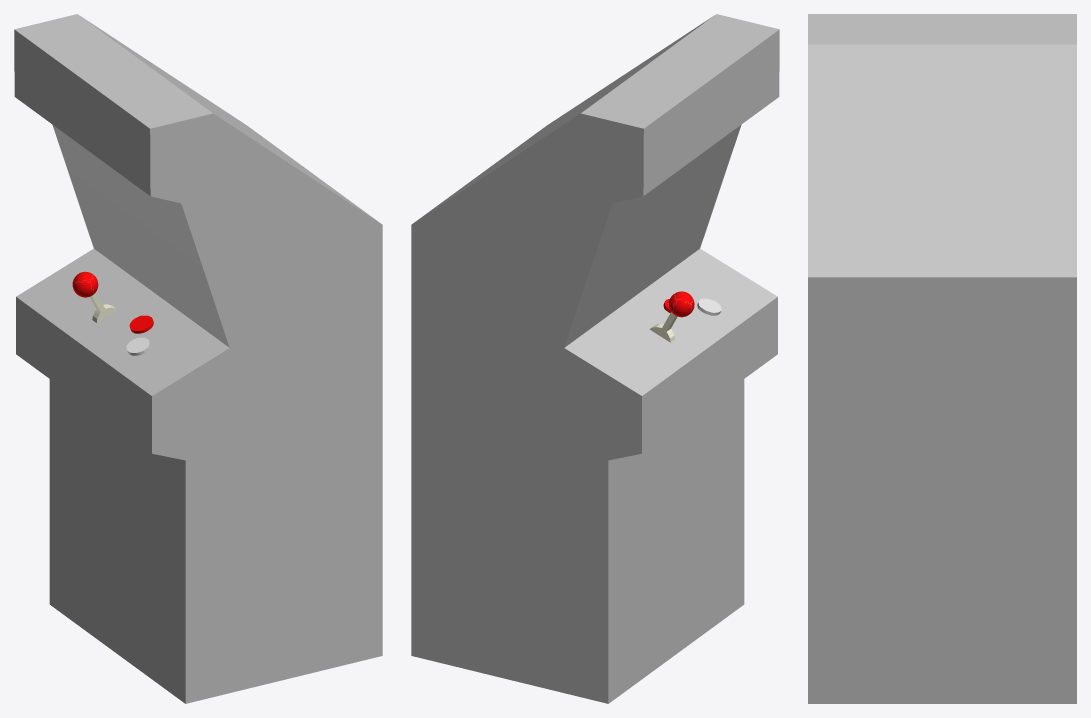
File: Arade Machine.fbx
3 renders of one model, left to right at view 1: azimuth 30°, elevation 25°; view 2: azimuth 150°, elevation 25°; view 3: azimuth 270°, elevation 25°, orthographic.
Parts seen in each view (by area): view 1: Body, Joystick; view 2: Body, Joystick; view 3: Body.
Part boxes in pixels (x1,y1,x2,y2): Body: (14, 14, 382, 703); Joystick: (72, 271, 117, 322); Body: (411, 14, 779, 703); Joystick: (649, 291, 694, 342); Body: (808, 14, 1076, 703).
Size of the model in its own units: 304 by 728 by 307.
